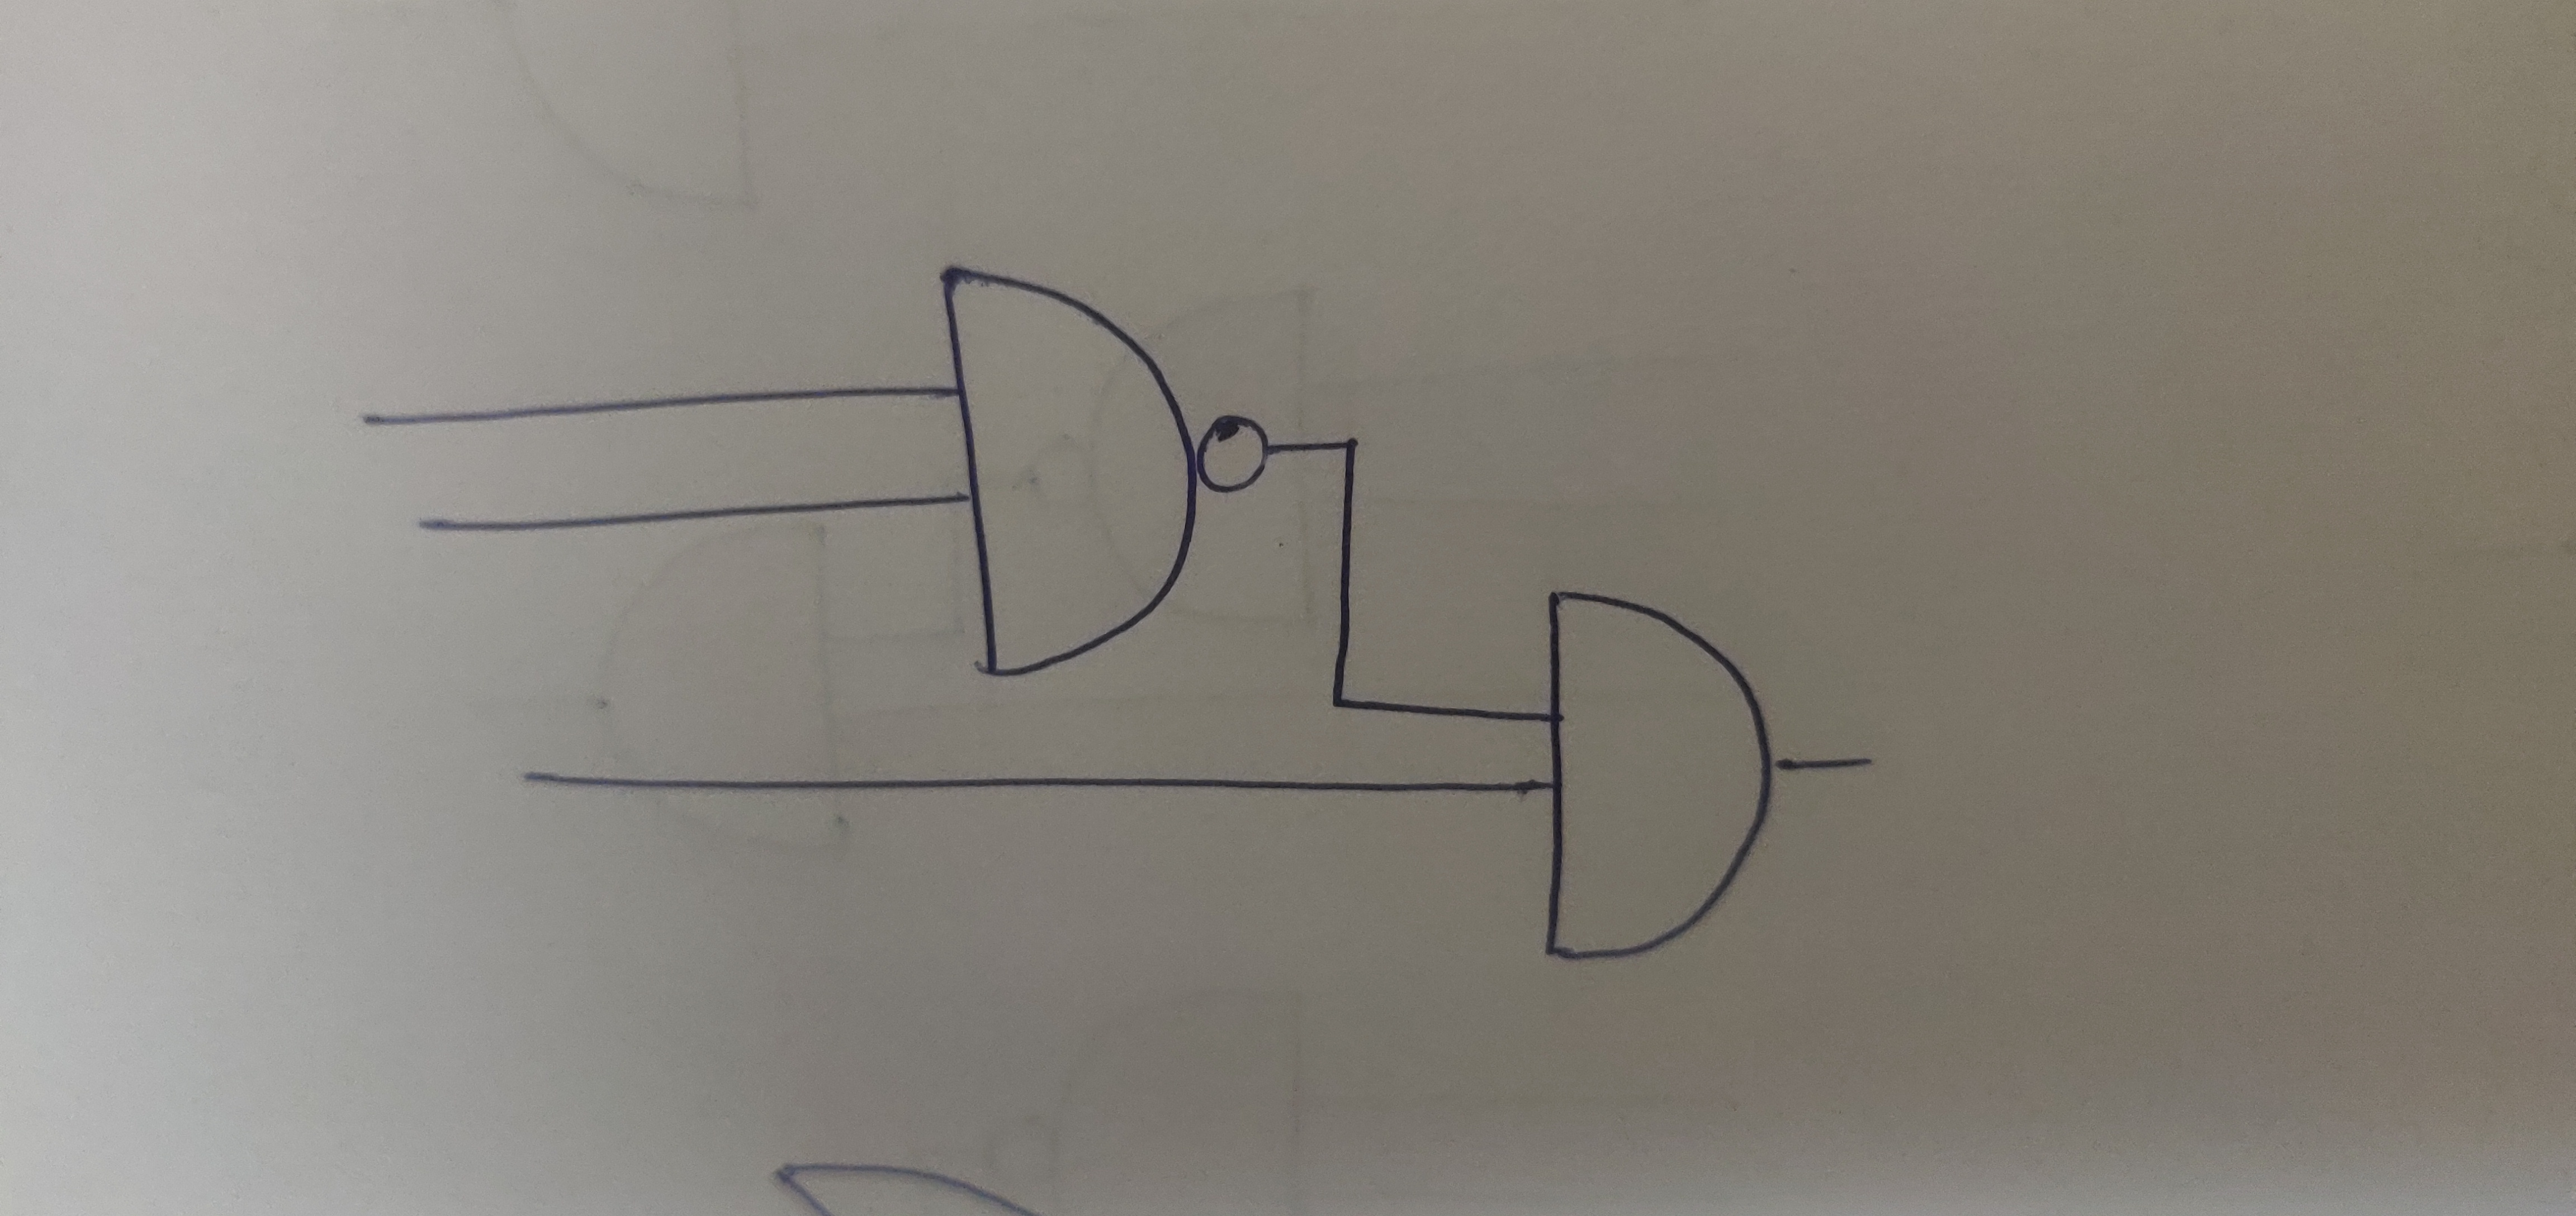and: (933, 260, 1203, 684), (1541, 585, 1774, 970)
not: (1193, 411, 1278, 496)
